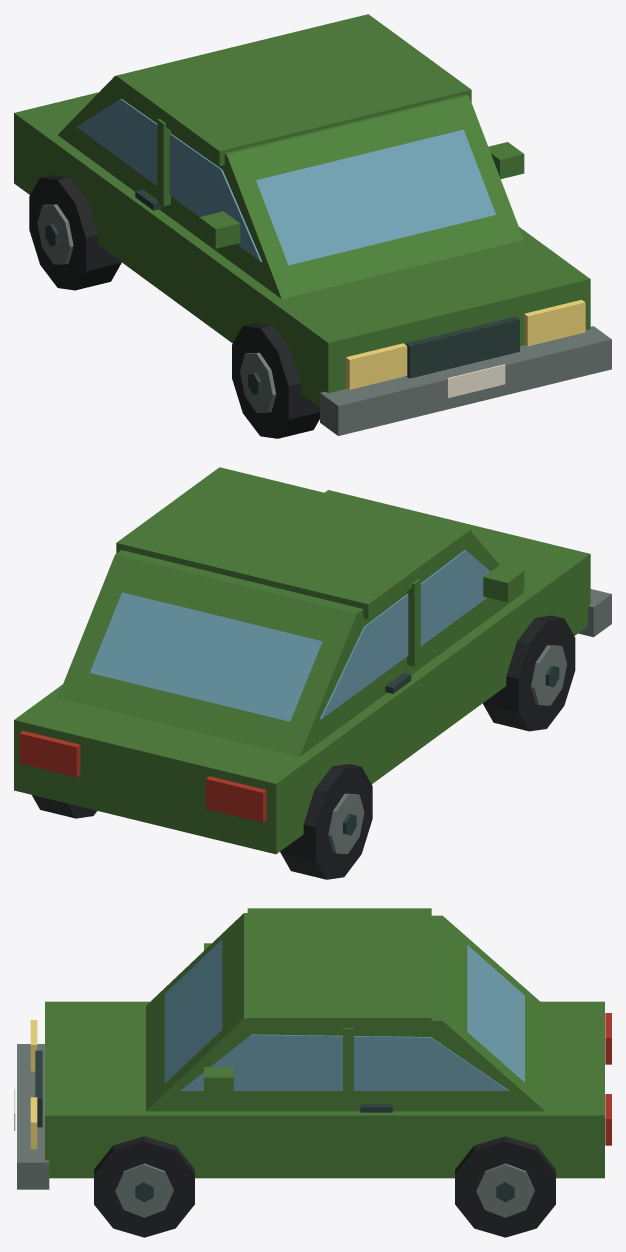
Rendered from VisitorHatchback.obj.
The picture shows the model from 3 angles, top to bottom: view 1: azimuth 30°, elevation 25°; view 2: azimuth 150°, elevation 25°; view 3: azimuth 270°, elevation 25°; orthographic projection. The views are drawn at different scales.
Visible parts, largest first — view 1: VisitorHatchback; view 2: VisitorHatchback; view 3: VisitorHatchback.
Boxes of the visible parts, <box> form: VisitorHatchback: <box>14,14,611,438</box>; VisitorHatchback: <box>14,467,611,879</box>; VisitorHatchback: <box>14,908,611,1237</box>.
Bounding box in the file's own units: 2.15 × 1.59 × 4.06.
